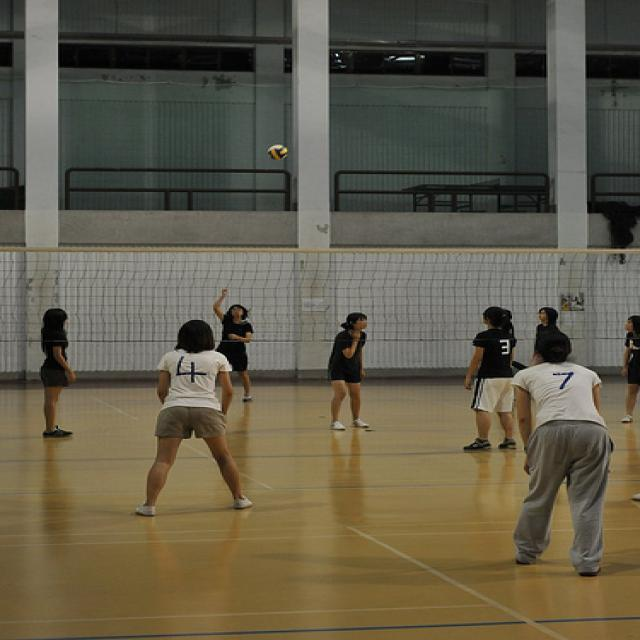volleyball: (266, 144, 288, 161)
